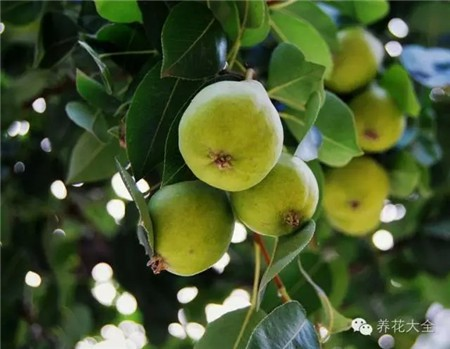pear: (178, 80, 282, 190), (139, 181, 233, 274), (229, 151, 318, 237), (321, 158, 389, 236), (317, 27, 383, 94), (344, 84, 405, 150)
